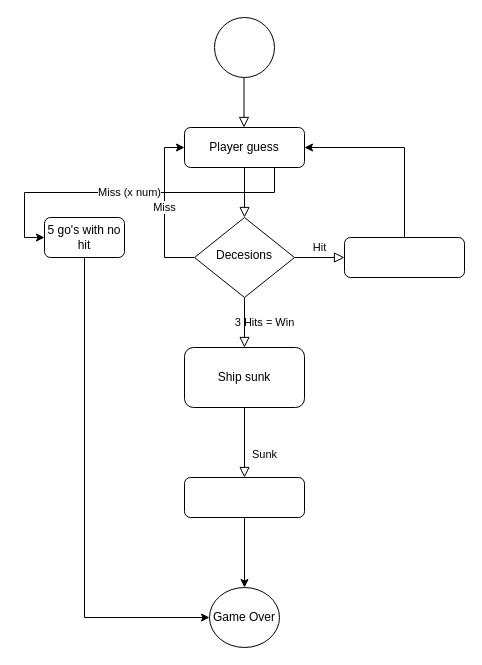
Image size: 482x665. Some labels were removed from this diagram. Here are the shapes that lost their labels. From the top down, the centre of each, then its label:
At pixel 244 47: "Begin".
At pixel 404 257: "Mark as hit".
At pixel 244 497: "Display score".
